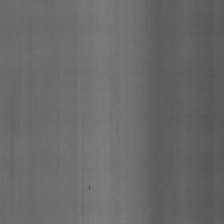inclusion: (86, 181, 91, 192)
